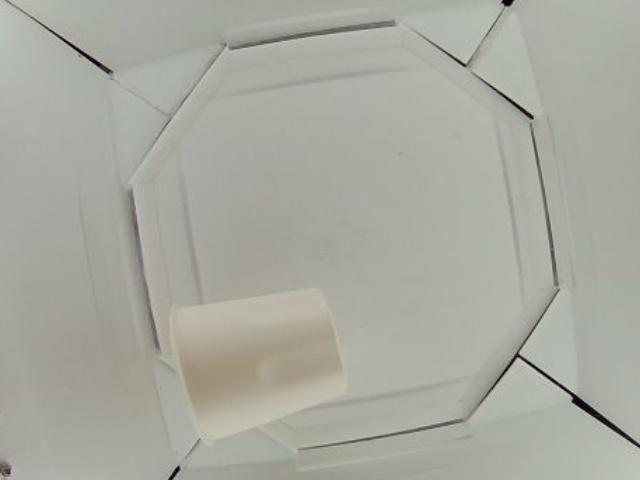Cup: (168, 290, 351, 438)
